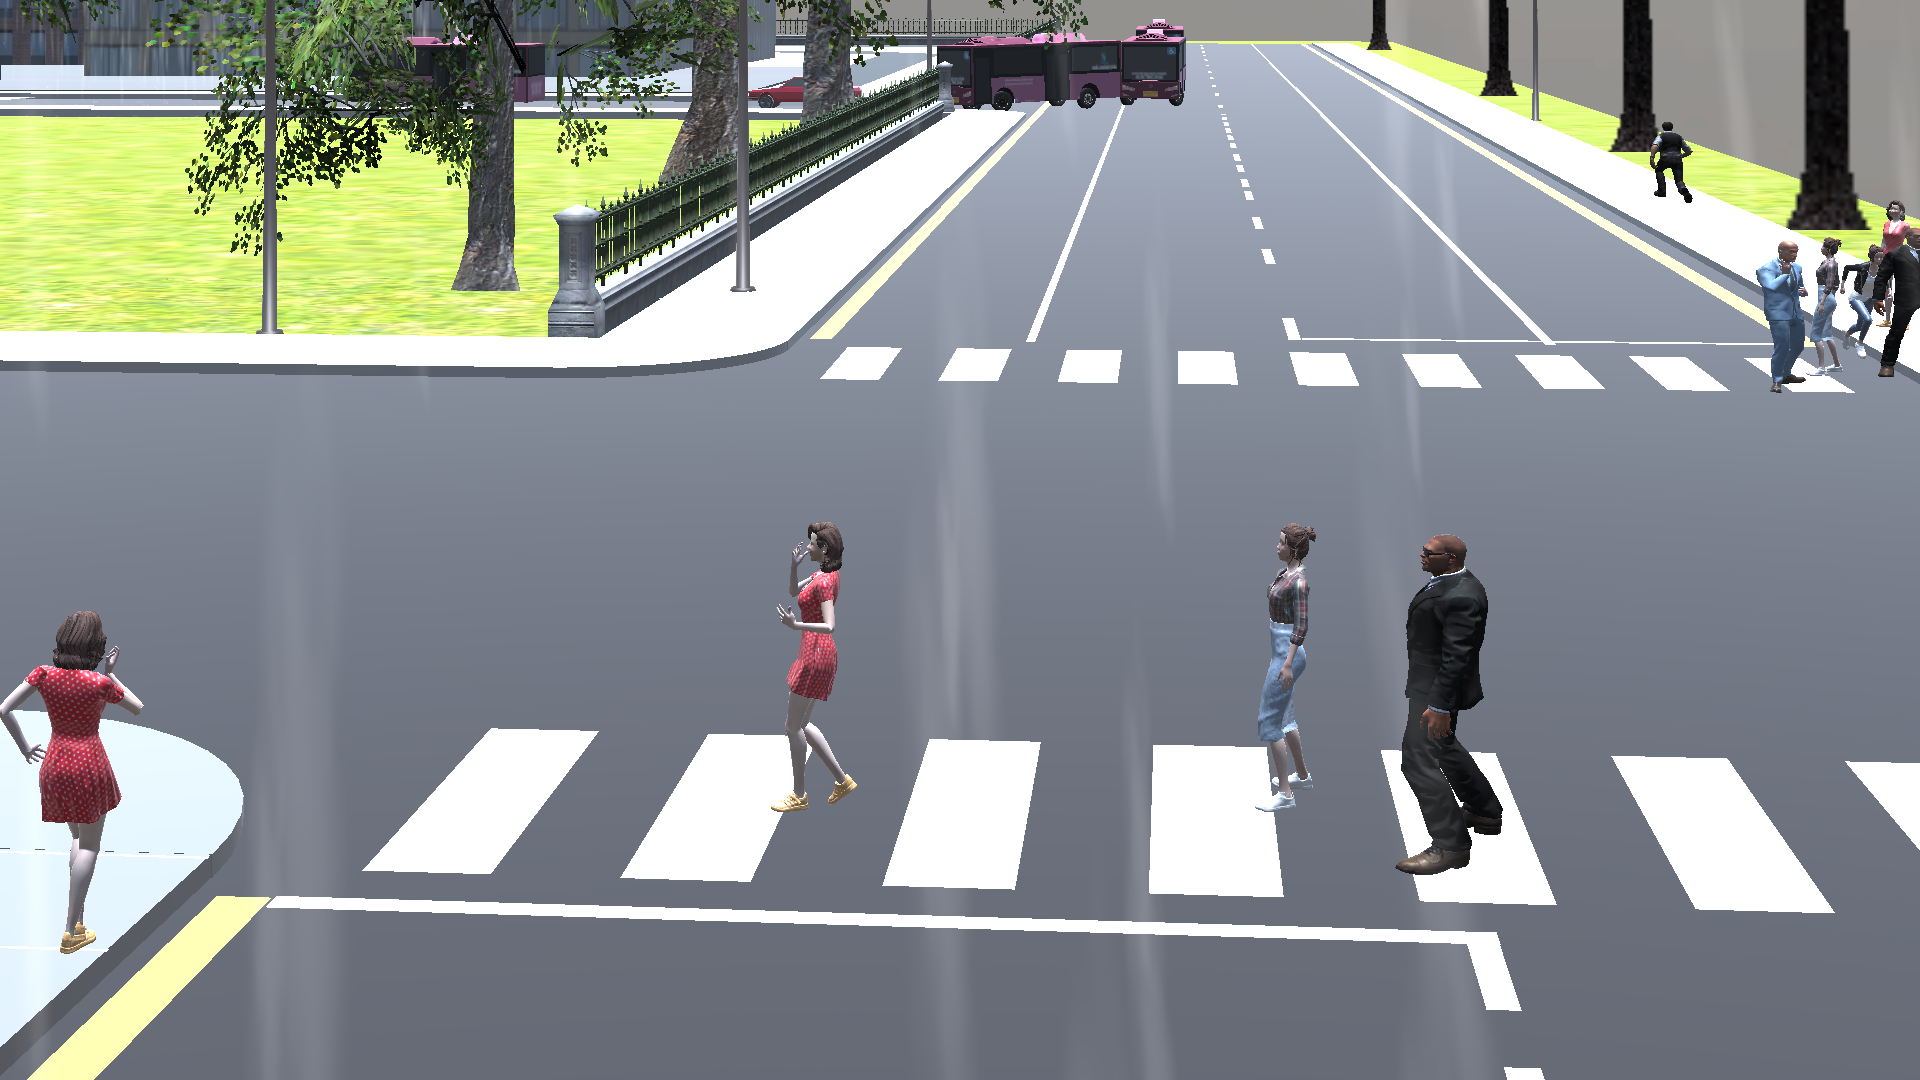pedestrian: (1, 594, 181, 972), (1386, 536, 1534, 868), (757, 508, 873, 840), (1248, 517, 1346, 820), (1748, 227, 1808, 397), (1875, 219, 1920, 394), (1636, 112, 1711, 211), (1808, 226, 1845, 383), (1849, 243, 1882, 363), (1882, 191, 1907, 237)
